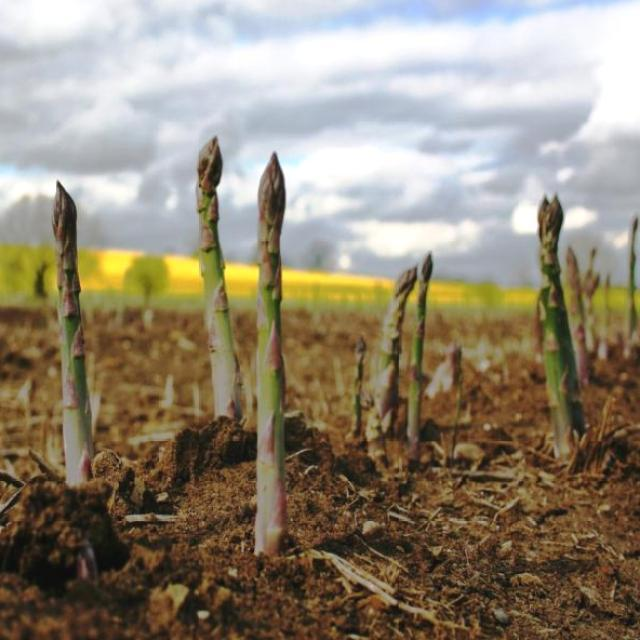aspargus: (254, 152, 287, 561), (52, 183, 94, 489), (196, 137, 241, 422)
